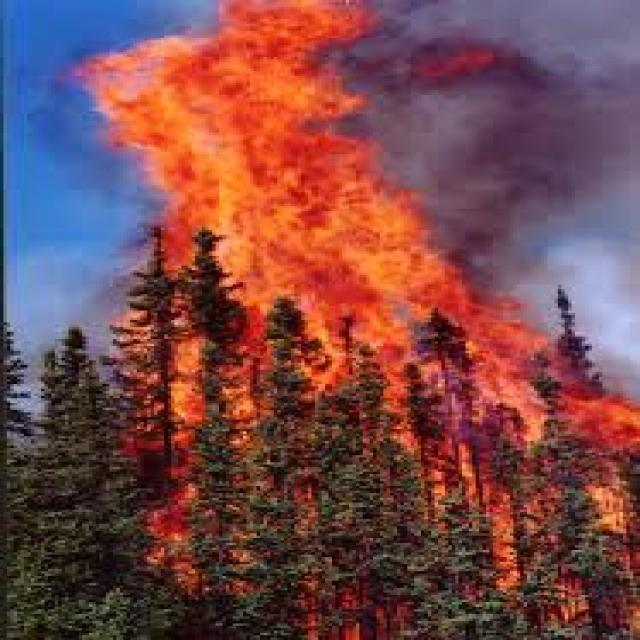Fire: (110, 333, 640, 579), (80, 7, 397, 299)
Smoke: (420, 6, 640, 234)
